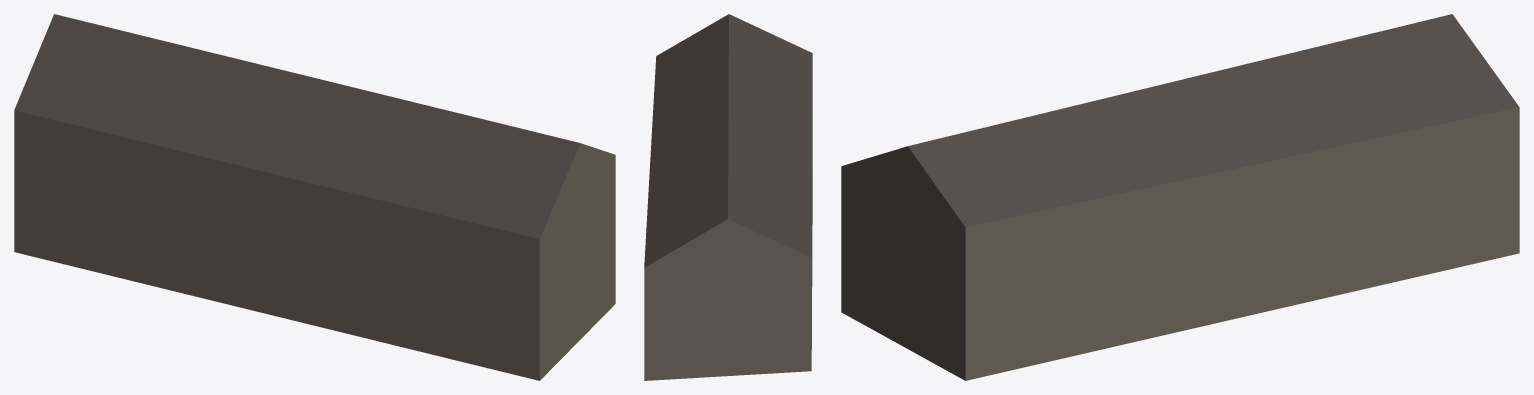
The picture shows the model from 3 angles, left to right: view 1: azimuth 30°, elevation 25°; view 2: azimuth 150°, elevation 25°; view 3: azimuth 270°, elevation 25°; orthographic projection. The views are drawn at different scales.
Visible parts, largest first — view 1: HP-w1512359762; view 2: HP-w1512359762; view 3: HP-w1512359762.
Part boxes in pixels (x1,y1,x2,y2): HP-w1512359762: (14, 14, 615, 380); HP-w1512359762: (644, 14, 812, 380); HP-w1512359762: (841, 14, 1519, 380).
Size of the model in its own units: 17.65 by 8.32 by 25.21.
